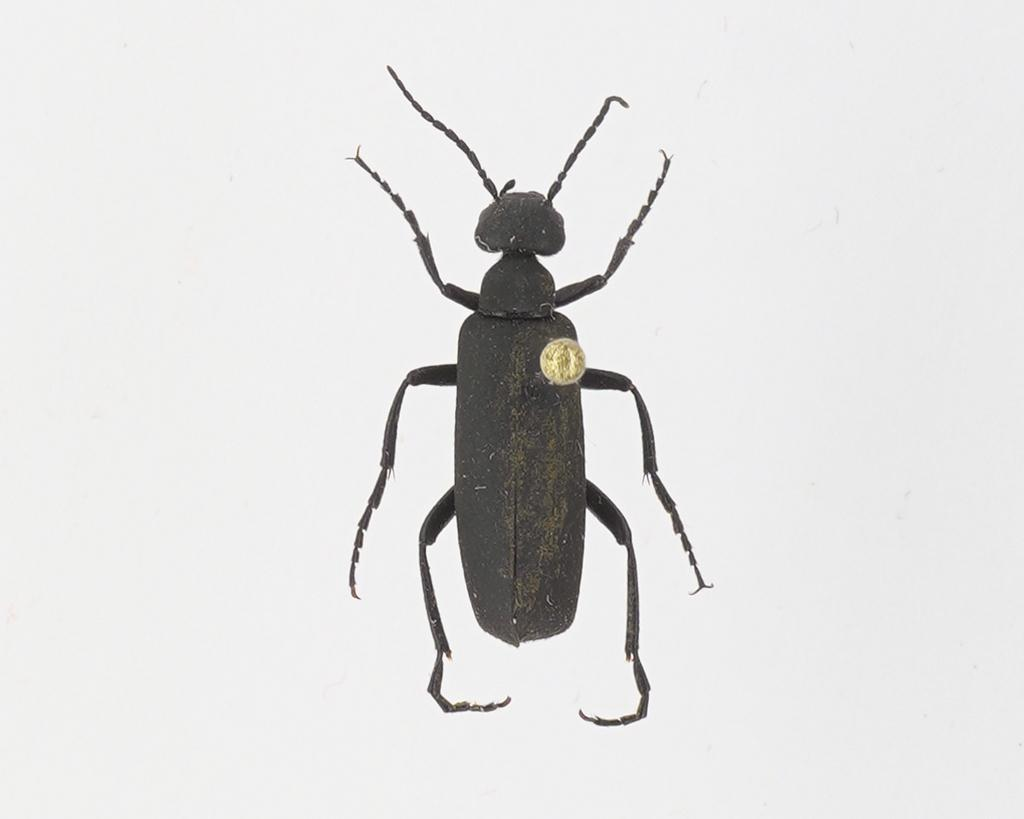blister_beetle: (272, 23, 798, 805)
